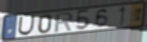0: (38, 13, 54, 35)
1: (118, 5, 129, 27)
5: (74, 8, 92, 32)
6: (94, 9, 109, 29)
R: (54, 12, 74, 34)
U: (17, 14, 37, 36)
